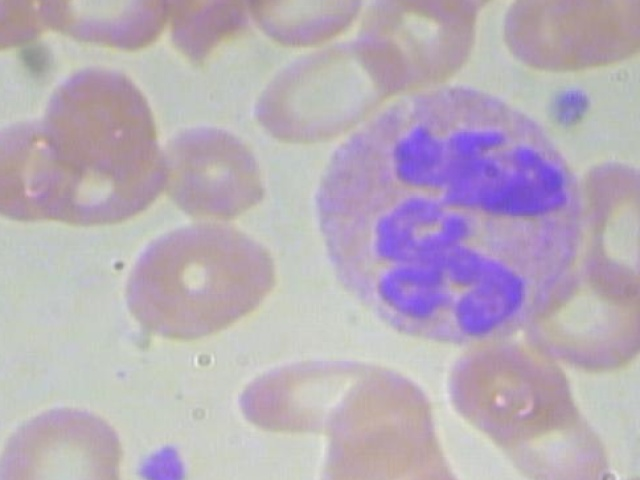Platelets: (546, 81, 607, 140), (128, 437, 211, 480)
RBC: (116, 209, 278, 349), (250, 27, 417, 149), (217, 351, 433, 434), (315, 361, 450, 475), (525, 276, 640, 385), (348, 0, 475, 98), (39, 61, 161, 161), (149, 115, 270, 215), (0, 395, 133, 480), (582, 158, 640, 297), (558, 0, 640, 63)
WBC: (319, 83, 581, 343)
